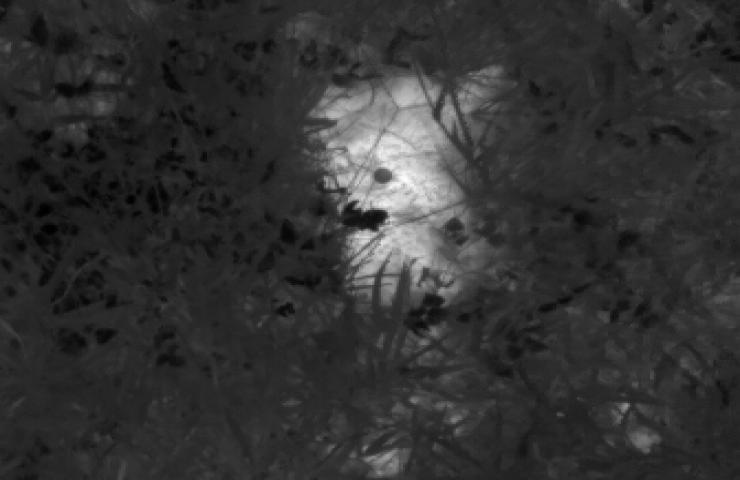landmines: (300, 57, 517, 317)
